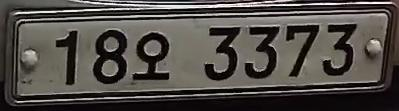1: (52, 28, 86, 90)
3: (242, 22, 283, 82), (201, 24, 242, 82), (321, 19, 359, 78)
7: (283, 20, 320, 80)
8: (90, 26, 130, 87)
오: (129, 25, 173, 86)
